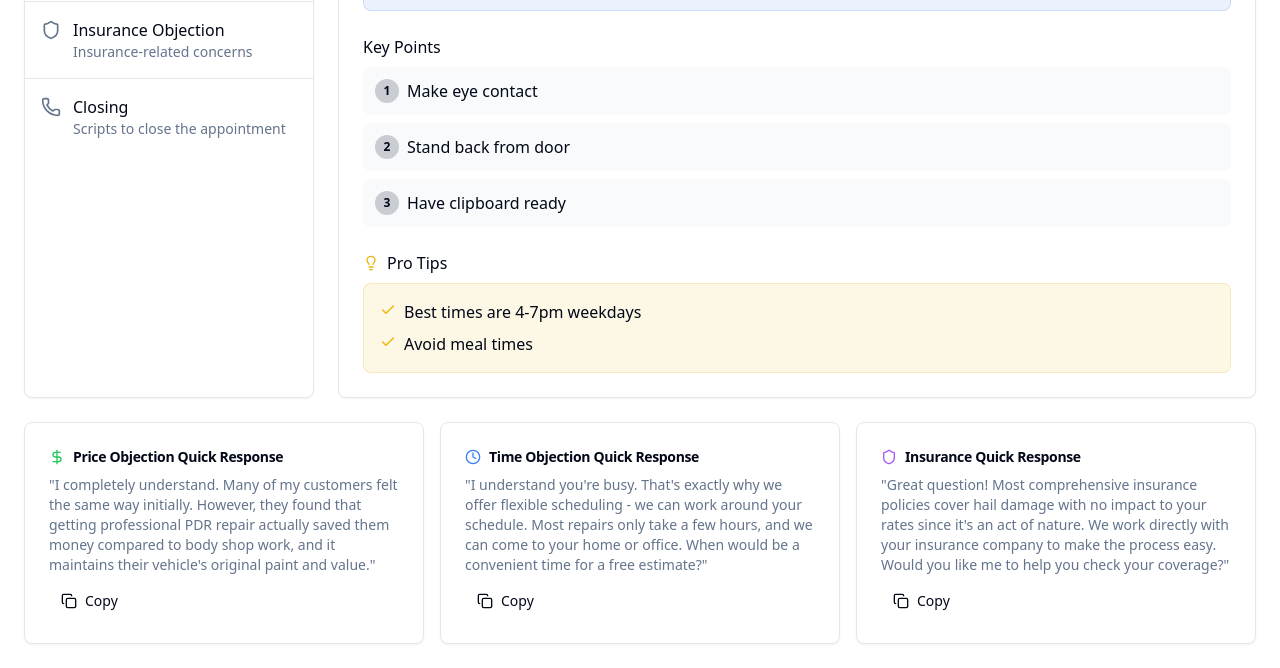
Test: ScriptsPage › Quick Reference Cards › clicking copy button changes to copied state
The image size is (1280, 668).
(page scrolled)
Expected: the heading "Price Objection Quick Response" is shown, [49, 447, 283, 466]
# Click the first Copy button
Click the button "Copy" below "Price Objection Quick Response": click(89, 601) [49, 583, 130, 619]
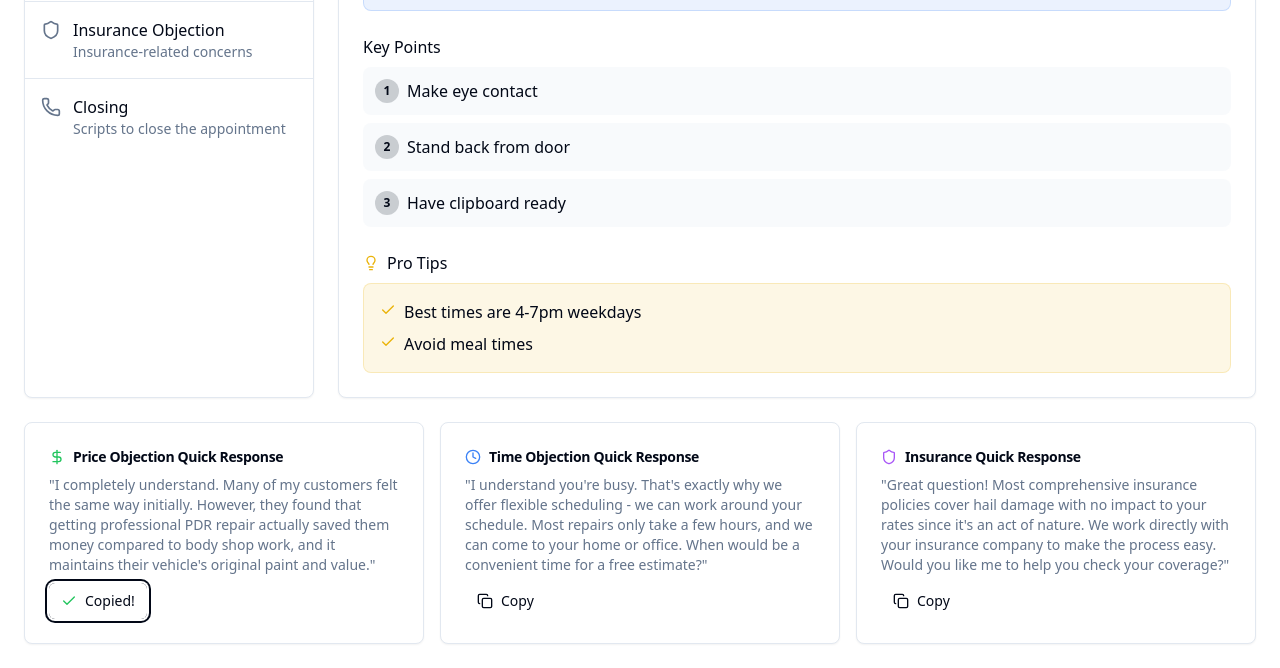
Expected: the button "Copied!" is shown, [49, 583, 147, 619]
